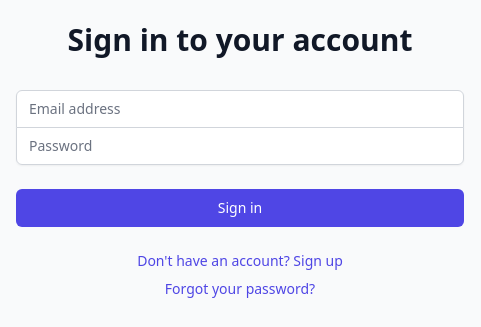
Scenario: Login Component › shows validation error for invalid email
Type "invalid-email" into the field with placeholder "Email address" at coordinates (240, 108), box [16,90,464,128]
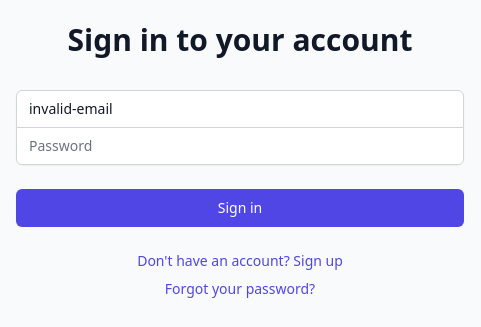
Leave the field with placeholder "Email address", box [16,90,464,128]
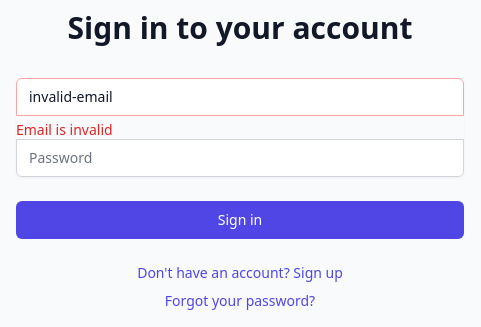
Result: the text "Email is invalid" is shown at [16,120,113,138]
